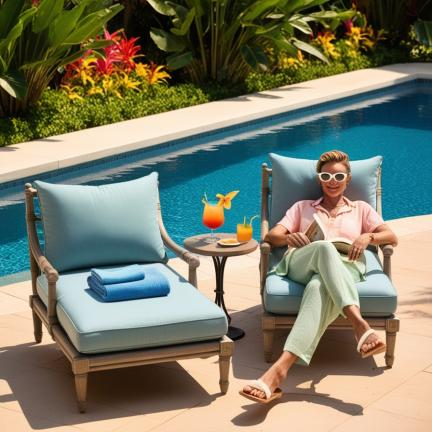guest on chair: (240, 150, 399, 403)
occupied chair: (25, 172, 232, 412)
